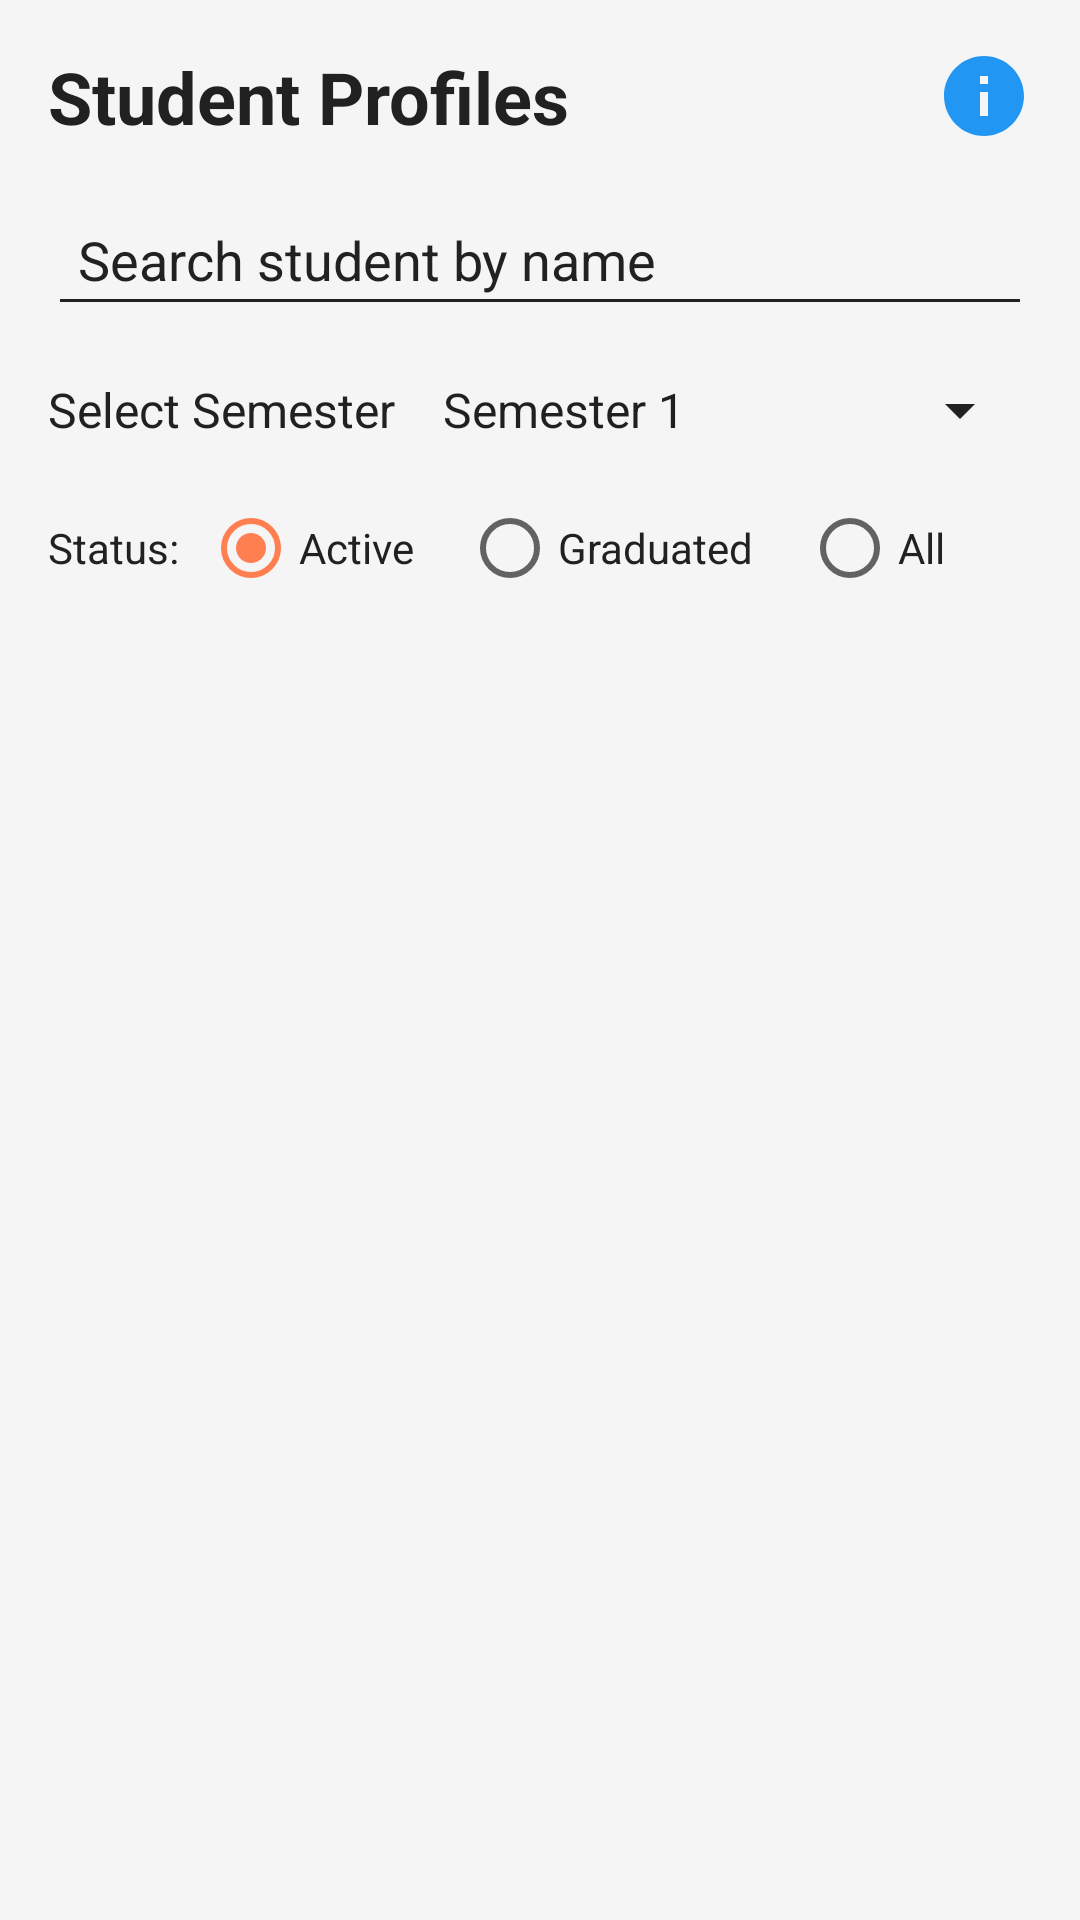

Icons on this 1080×1920 Android screen, each with the point to tap as (x,y):
Help: (984,96)
